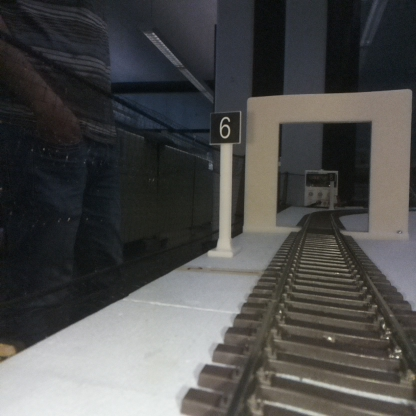black-info-6: (210, 111, 240, 255)
